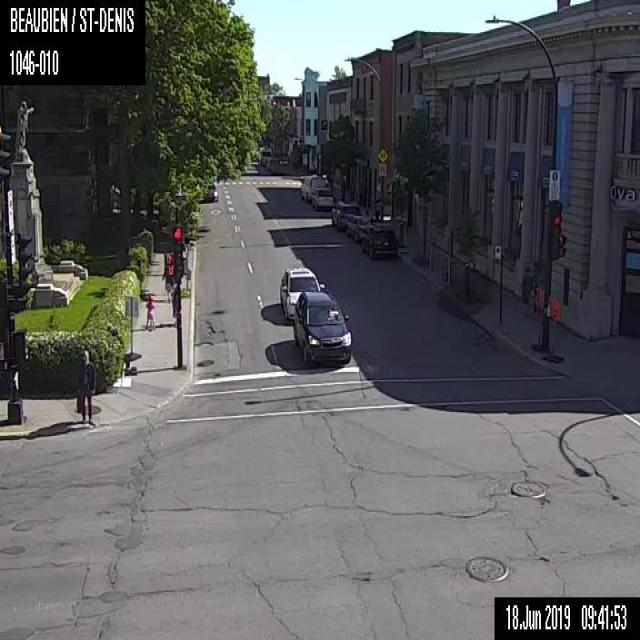construction: (542, 298, 564, 362)
cyclist: (143, 293, 155, 331)
pedestrian: (71, 348, 95, 425), (521, 266, 533, 318), (160, 265, 174, 303)
vehicle: (293, 291, 352, 368), (278, 266, 324, 319), (361, 224, 398, 261), (330, 200, 360, 230), (298, 173, 327, 201), (345, 214, 371, 242), (311, 187, 334, 210), (202, 183, 218, 201)
